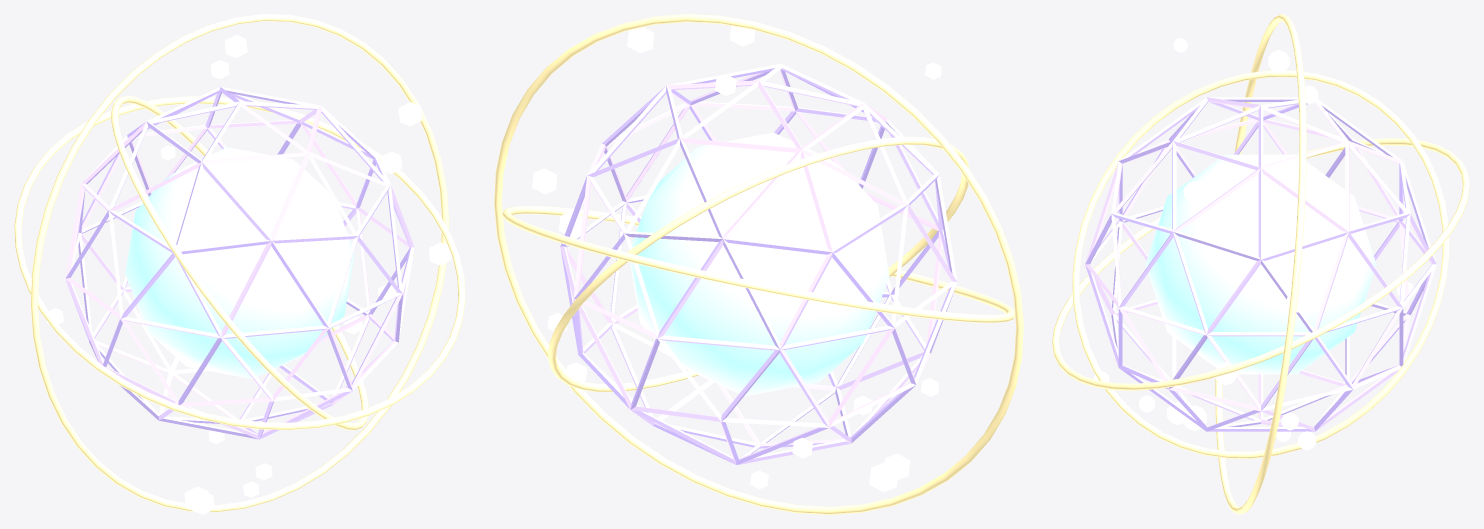
Rendered from data-orb.glb.
The picture shows the model from 3 angles, left to right: view 1: azimuth 30°, elevation 25°; view 2: azimuth 150°, elevation 25°; view 3: azimuth 270°, elevation 25°; orthographic projection. The views are drawn at different scales.
Visible parts, largest first — view 1: DataOrb; view 2: DataOrb; view 3: DataOrb.
Boxes of the visible parts, x1,y1,x2,y2 form: DataOrb: [14, 14, 465, 514]; DataOrb: [494, 14, 1023, 514]; DataOrb: [1052, 14, 1469, 514].
Size of the model in its own units: 3.02 by 3.01 by 2.53.
